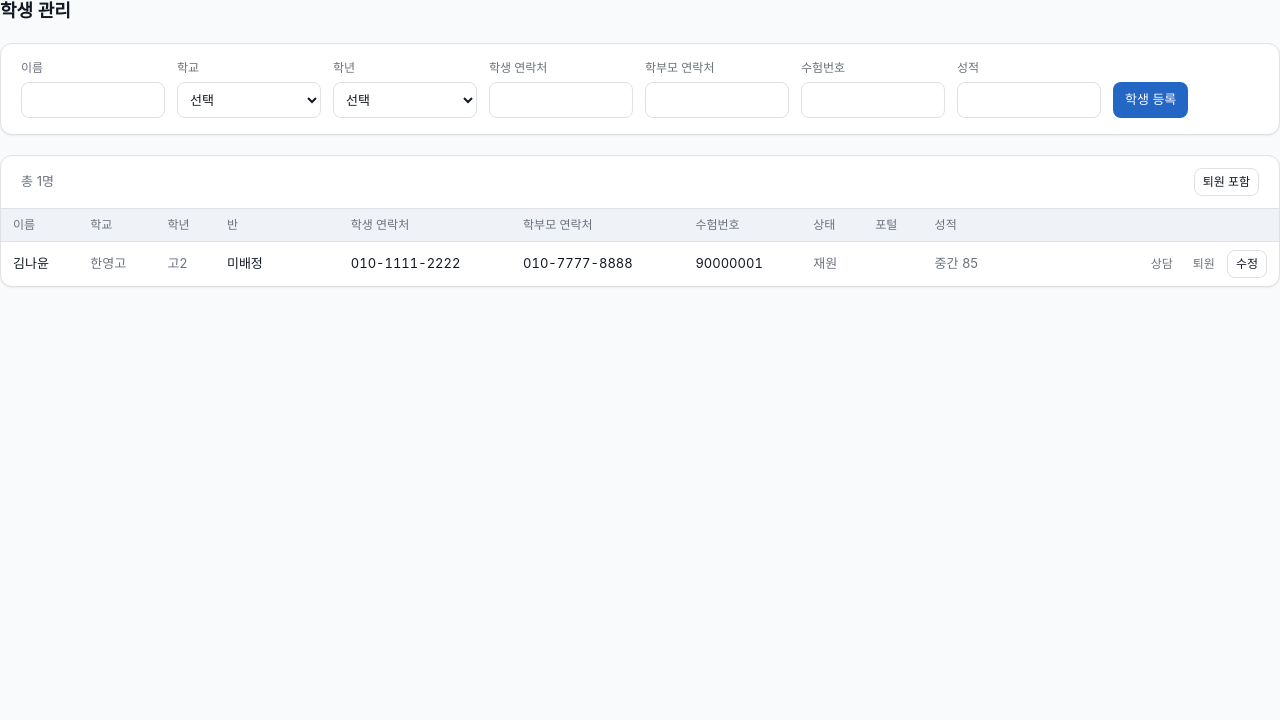
Scenario: StudentsPage › withdraws a student through the edit dialog
Click the button "수정".
click(1247, 264)  # box top-left (1227, 250), bottom-right (1267, 278)
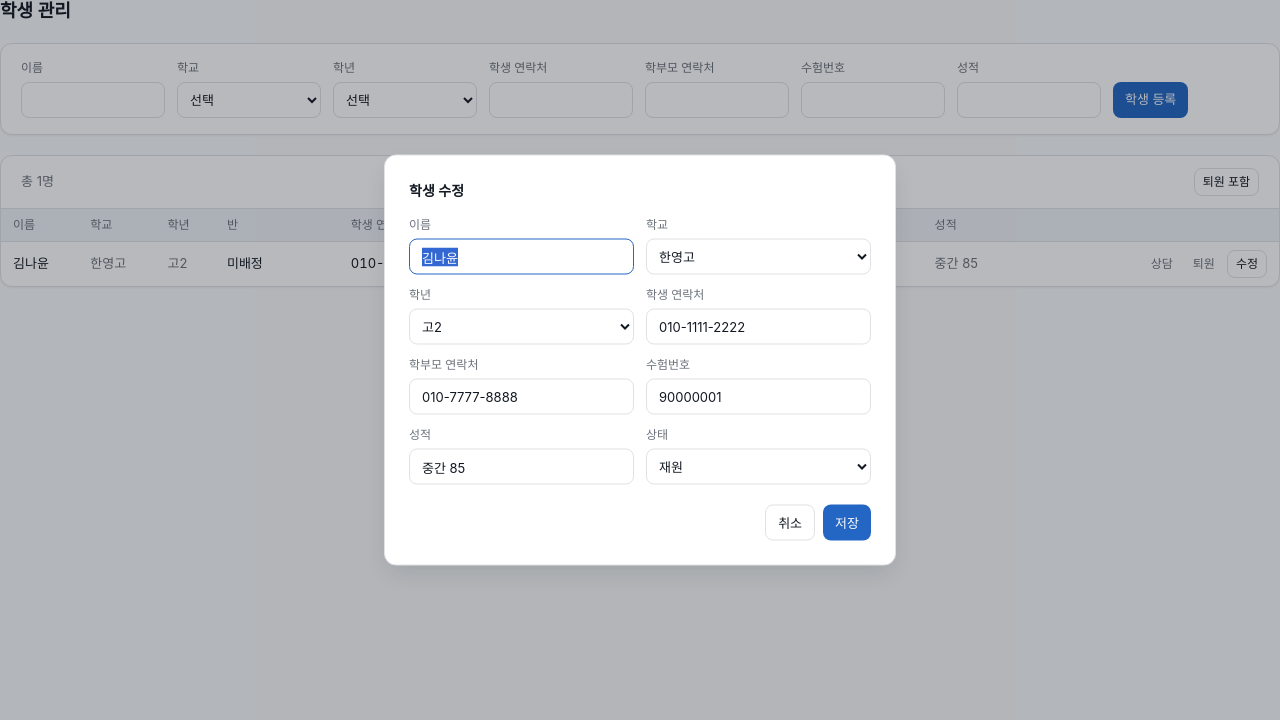
Select "퇴원" in the dropdown labelled "상태" at (758, 466), box top-left (646, 448), bottom-right (871, 484)
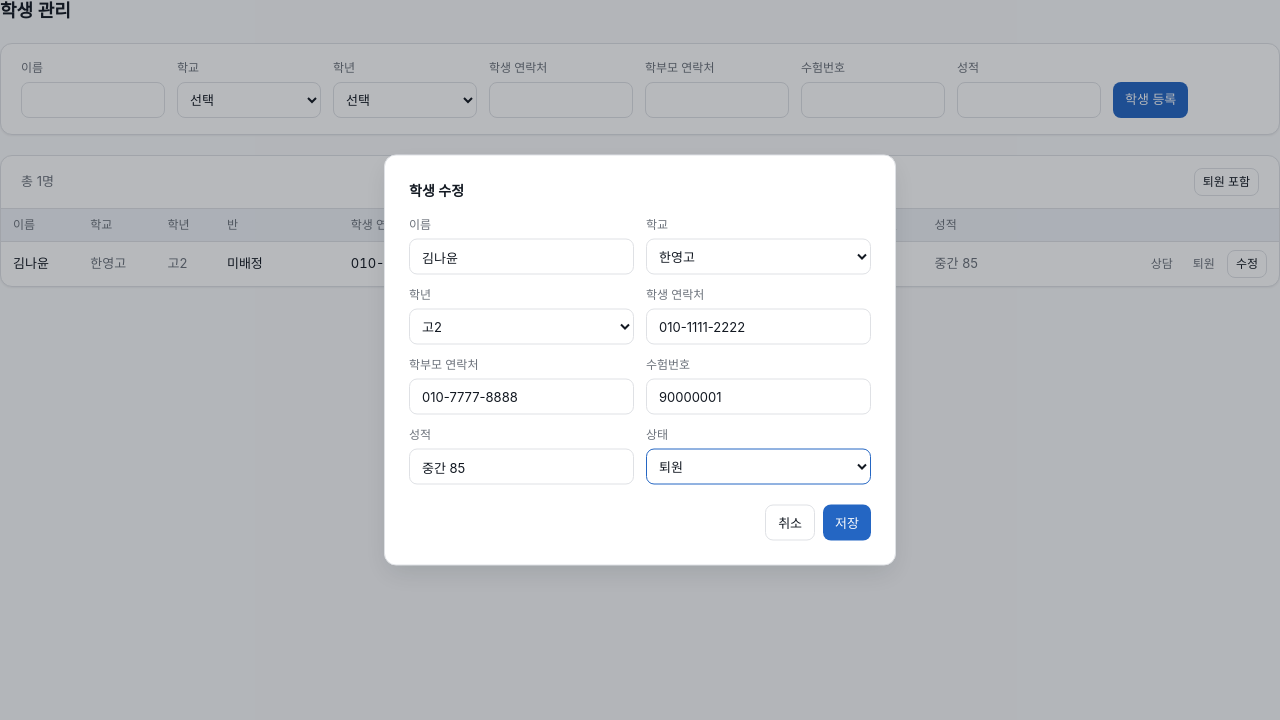
Click the button "저장".
click(847, 522)  # box top-left (823, 504), bottom-right (871, 540)
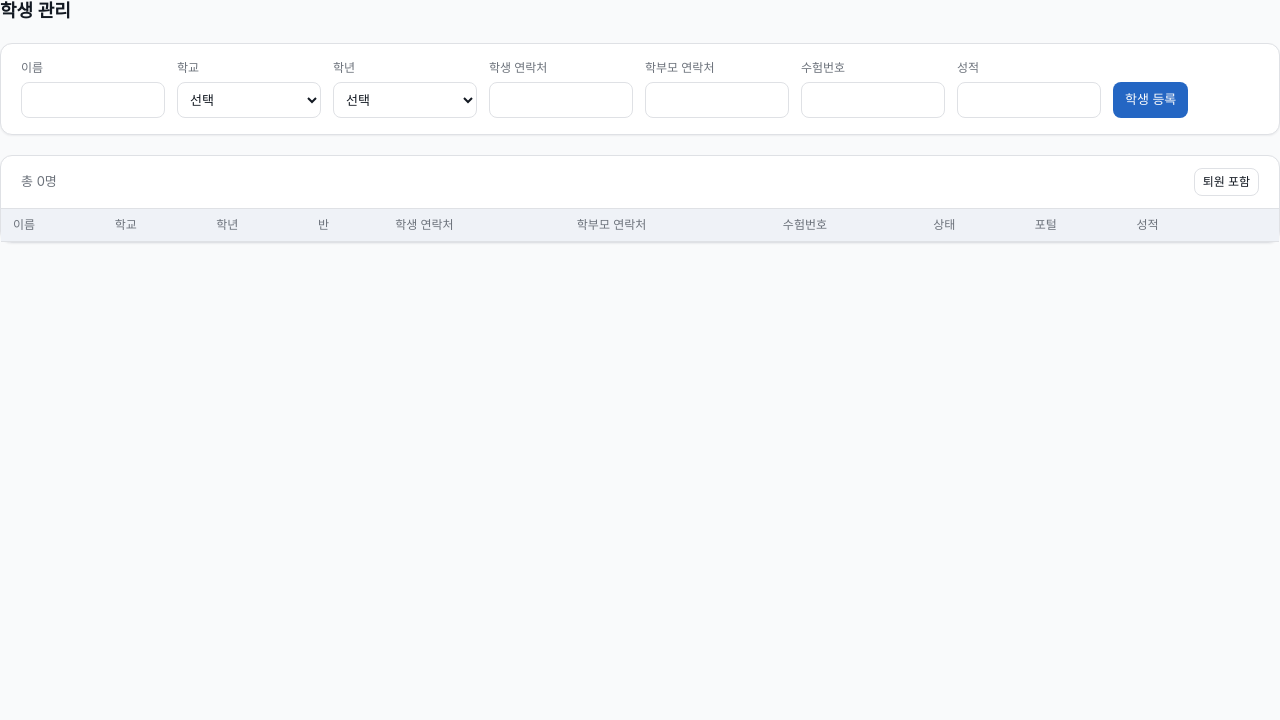
Now the text "김나윤" is gone
